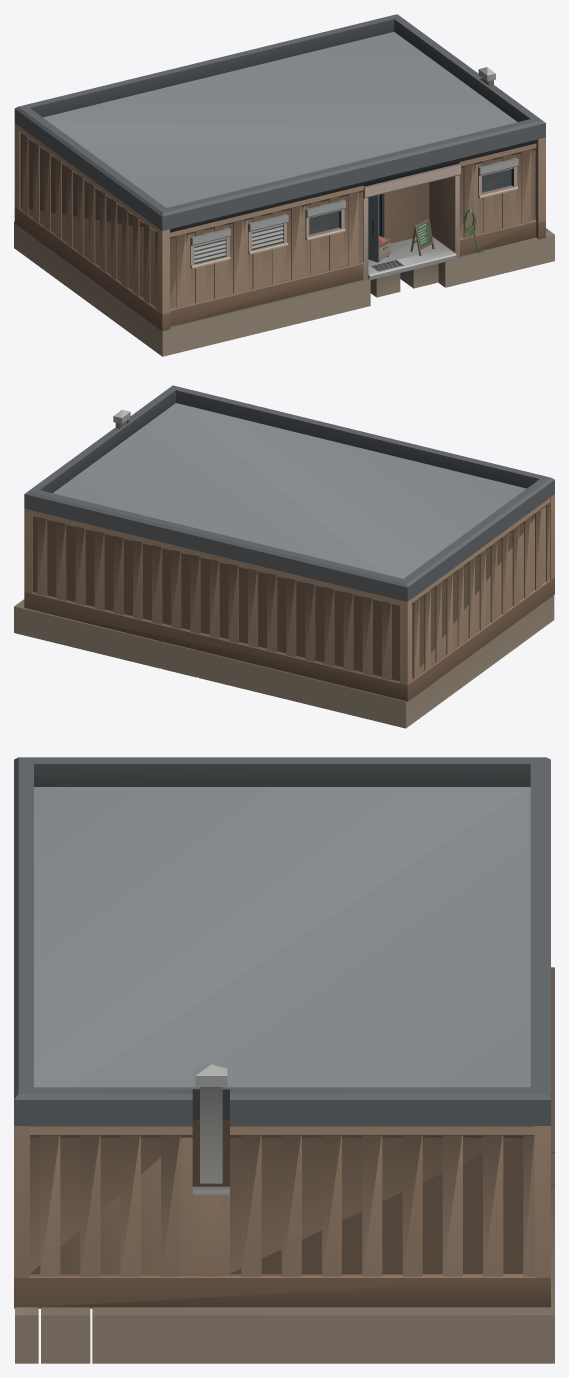
The model's file is clubhouse.glb.
3 views of the same model, one above another, from view 1: azimuth 30°, elevation 25°; view 2: azimuth 150°, elevation 25°; view 3: azimuth 270°, elevation 25° (orthographic). The views are drawn at different scales.
Visible parts, largest first — view 1: clubhouse.001; view 2: clubhouse.001; view 3: clubhouse.001.
Part boxes in pixels (x1=…): clubhouse.001: x1=14, y1=14, x2=554, y2=356; clubhouse.001: x1=14, y1=385, x2=554, y2=728; clubhouse.001: x1=14, y1=757, x2=554, y2=1363.
Size of the model in its own units: 15.98 by 6.13 by 10.48.
